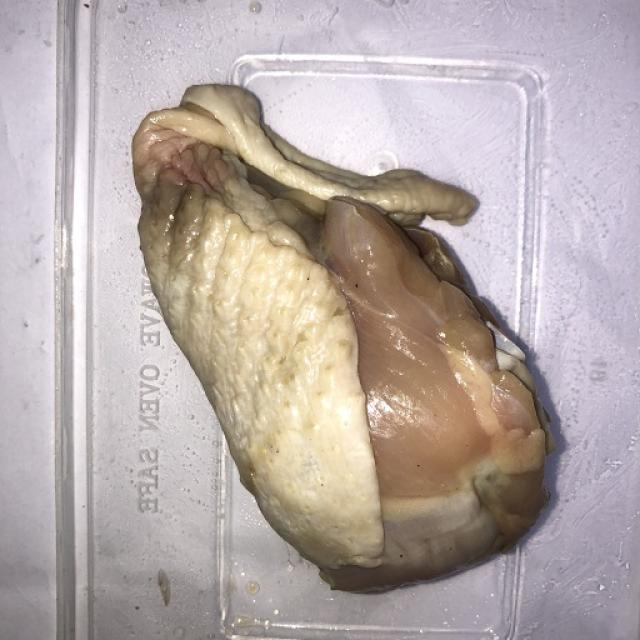Wet Waste: (120, 65, 565, 606)
